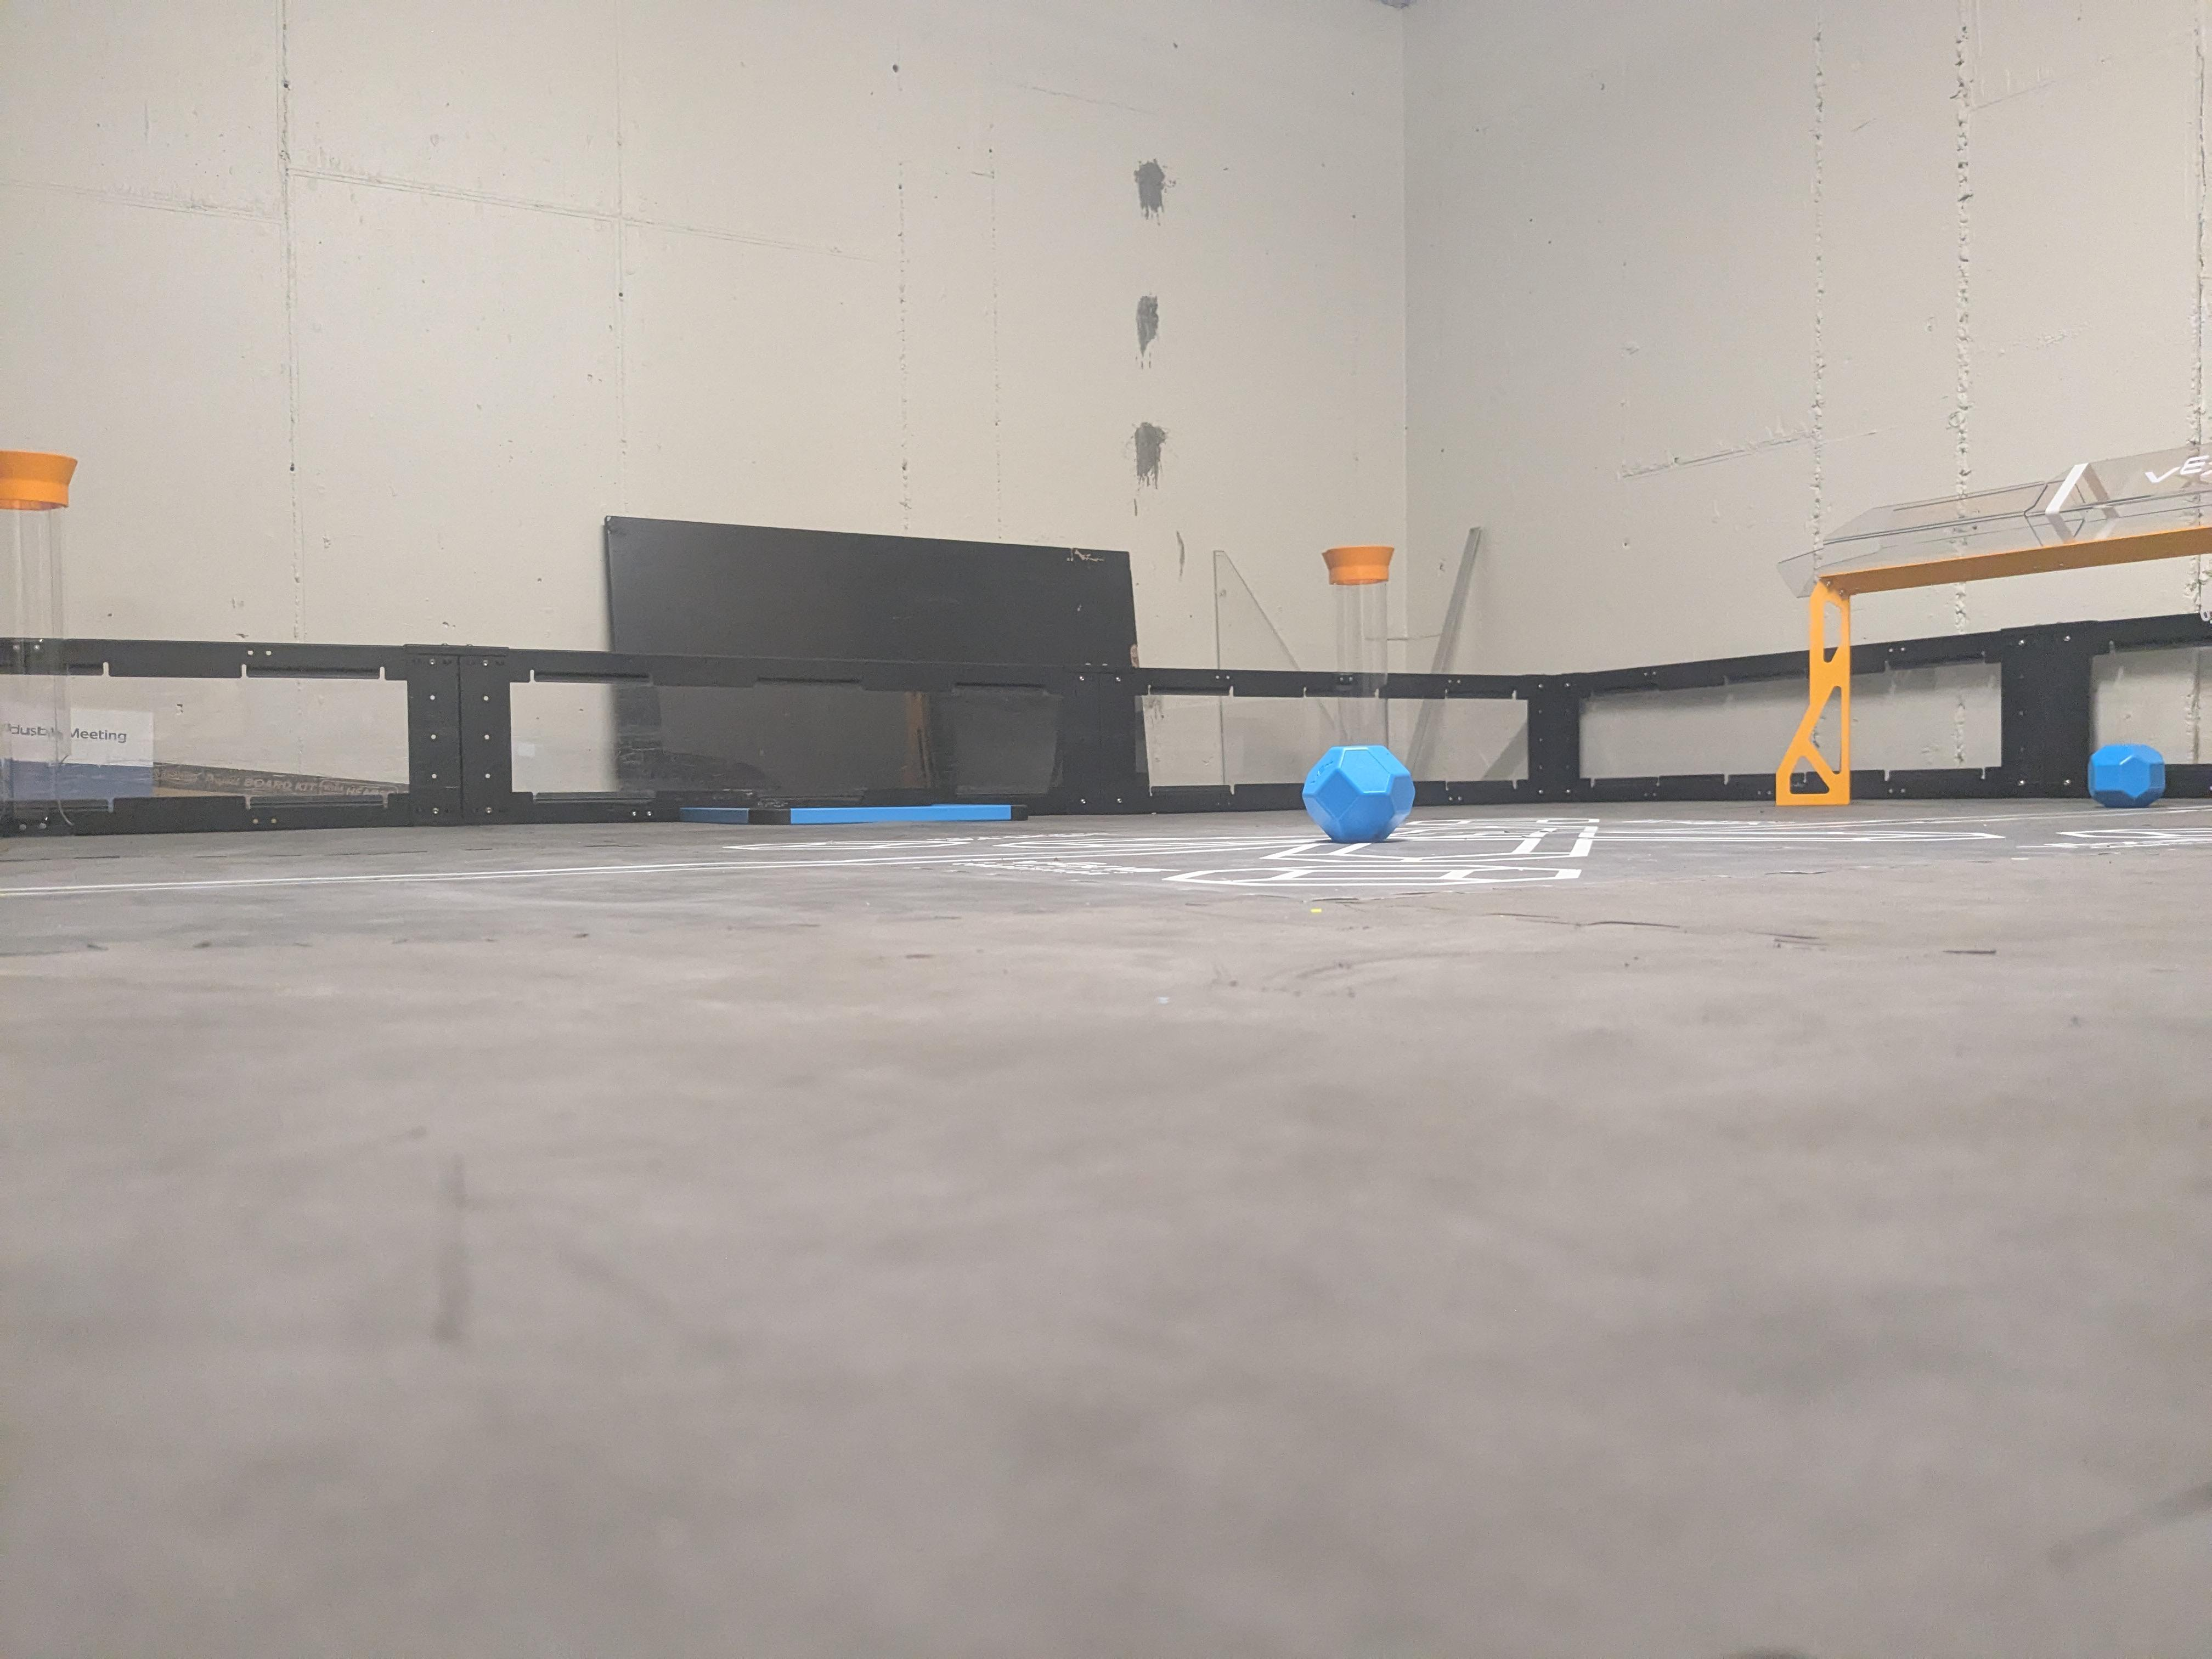Vex-Pieces-BLUE: (1303, 746, 1413, 836), (2087, 744, 2167, 805)
